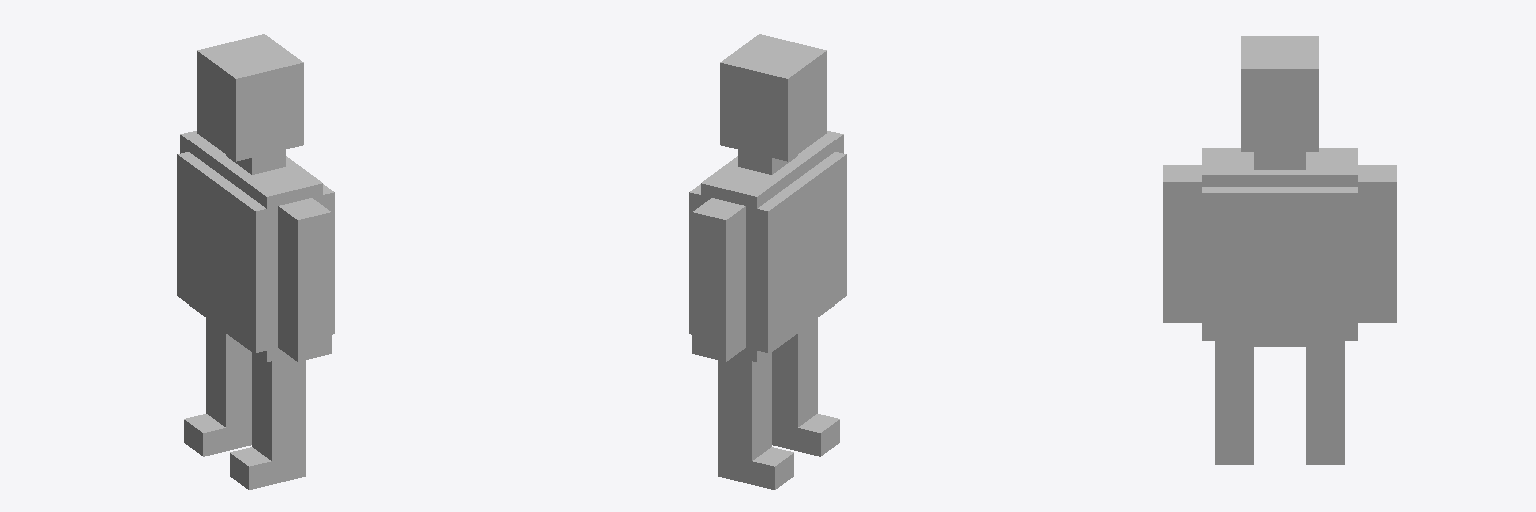
Rendered from Player.obj.
3 views of the same model, side by side, from view 1: azimuth 30°, elevation 25°; view 2: azimuth 150°, elevation 25°; view 3: azimuth 270°, elevation 25° (orthographic).
Parts seen in each view (by area): view 1: cube; view 2: cube; view 3: cube.
Boxes of the visible parts, box(x1,y1,x2,y2) form: cube: box(177, 34, 334, 489); cube: box(689, 34, 846, 489); cube: box(1163, 36, 1396, 464).
Bounding box in the file's own units: 0.4375 × 2.12 × 1.12.